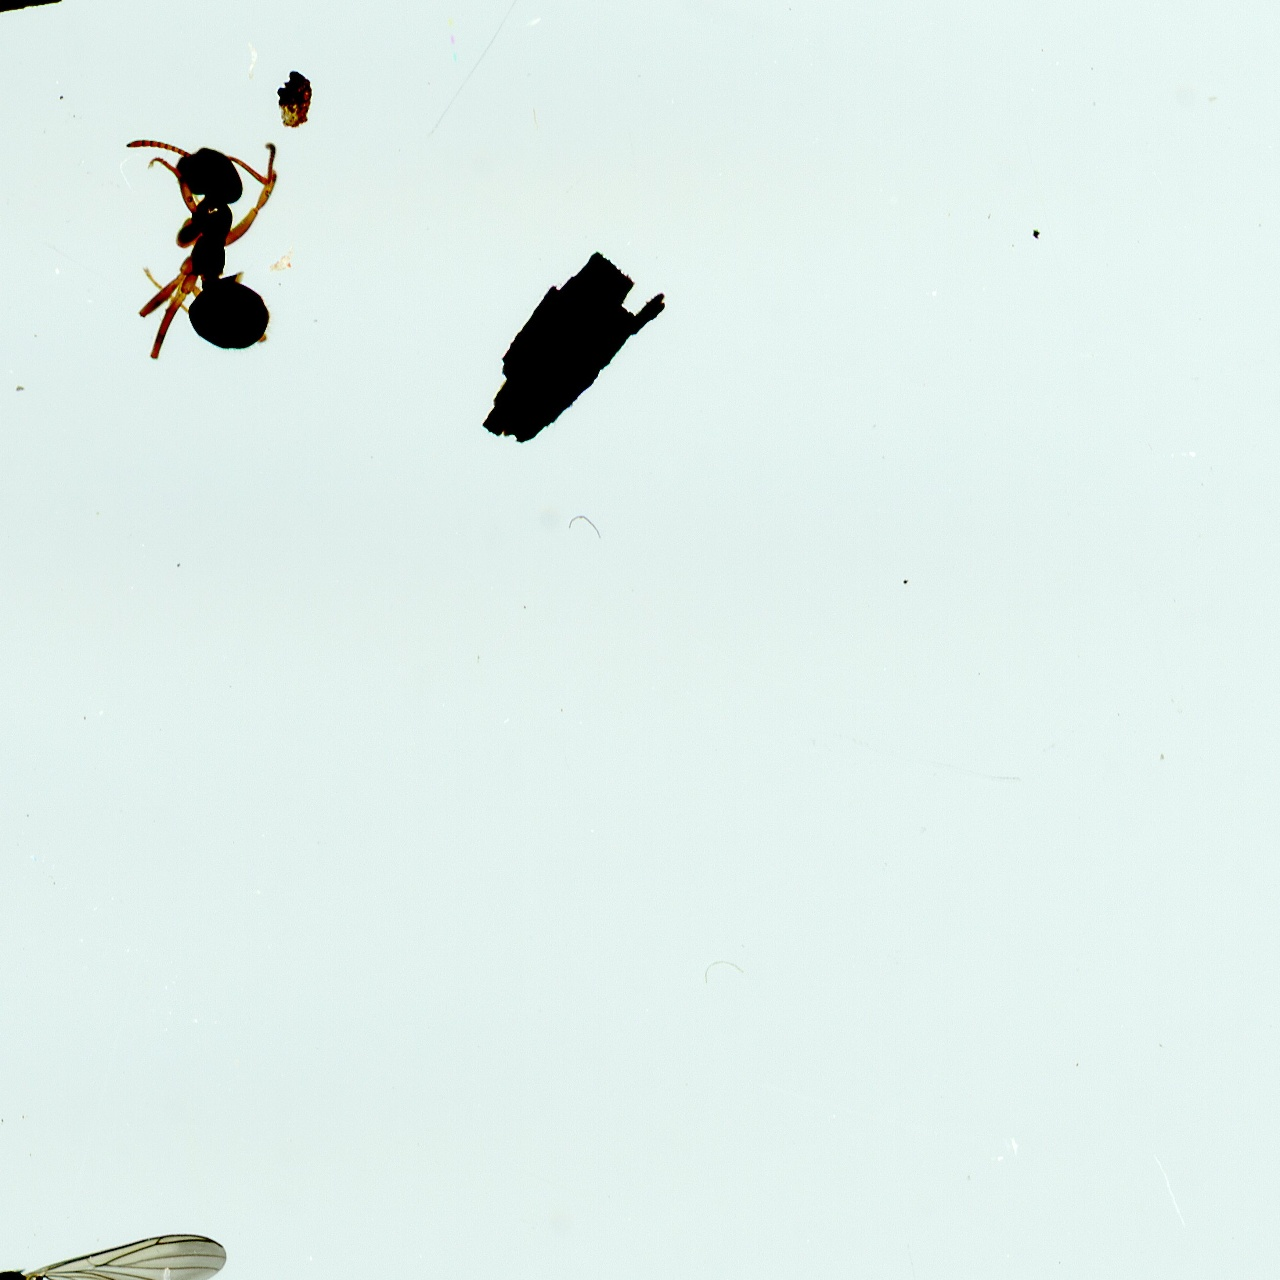arthropod: (125, 132, 285, 369), (0, 1229, 325, 1280)
